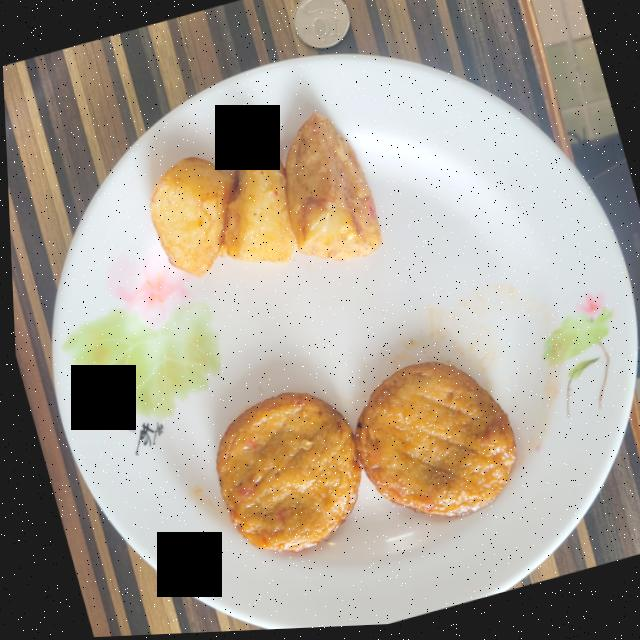coin: (293, 0, 350, 51)
fish cake: (211, 365, 511, 554)
fried potato: (148, 116, 379, 278)
